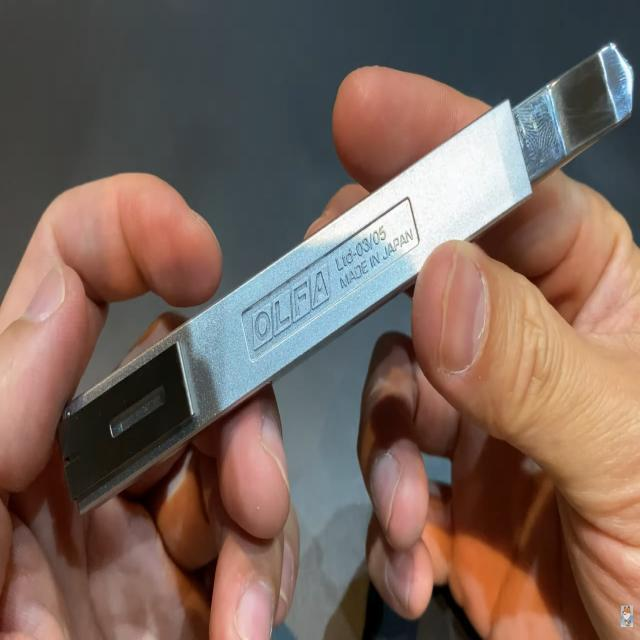cutter: (9, 1, 640, 562)
